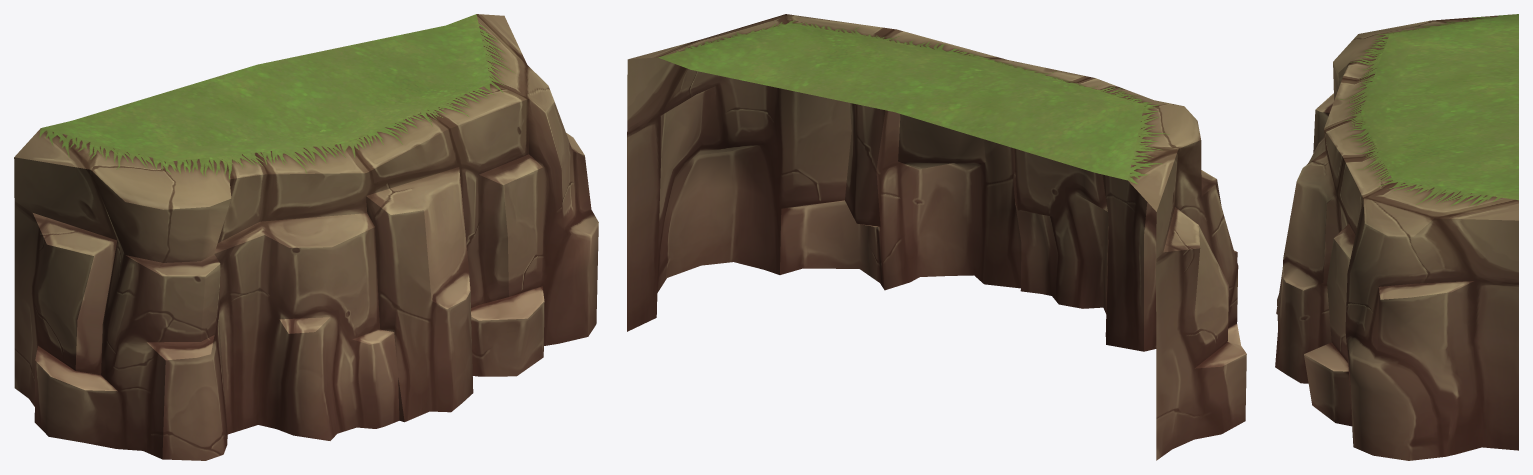
The model's file is Cliff #2.FBX.
The picture shows the model from 3 angles, left to right: view 1: azimuth 30°, elevation 25°; view 2: azimuth 150°, elevation 25°; view 3: azimuth 270°, elevation 25°; orthographic projection. The views are drawn at different scales.
Visible parts, largest first — view 1: Cliff #2; view 2: Cliff #2; view 3: Cliff #2.
Part boxes in pixels (<box>): Cliff #2: <box>14,14,598,460</box>; Cliff #2: <box>627,14,1246,460</box>; Cliff #2: <box>1275,14,1518,460</box>.
Bounding box in the file's own units: 713 × 335 × 308.
Materials: 1 (1 with a texture image).
